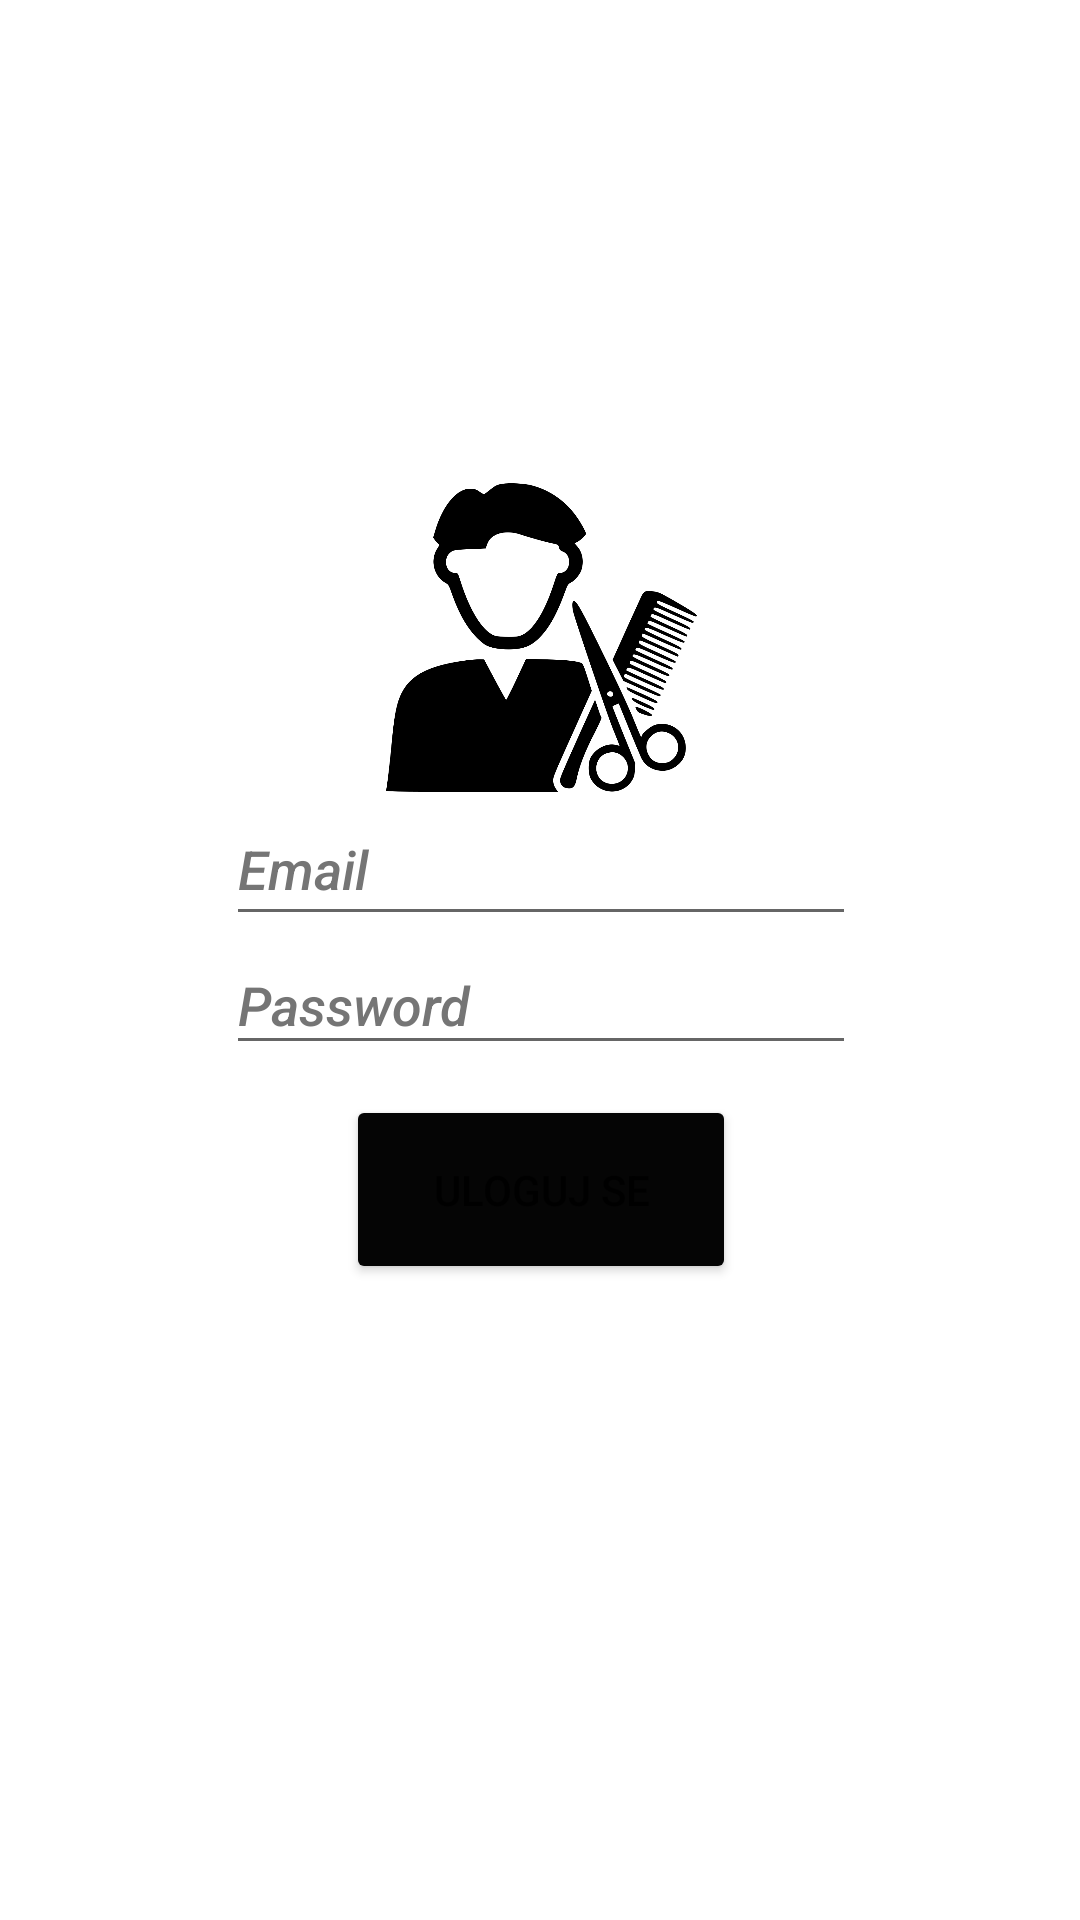

Icons on this 1080 × 1920 Android screen, each with its box as (x1, y1, x2, y2):
frizer: (386, 483, 697, 792)
